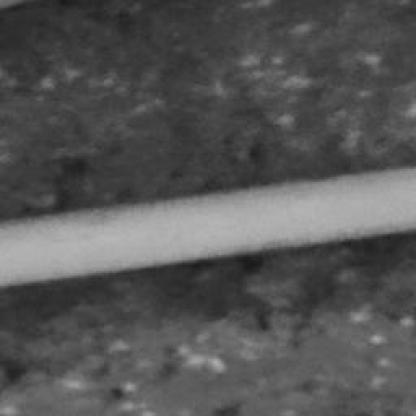PVC: (0, 167, 414, 288)
